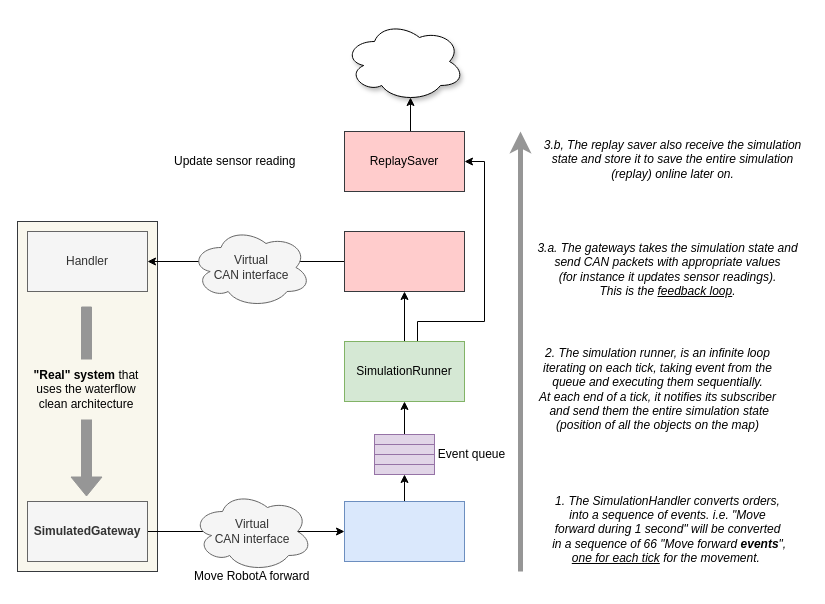
Some shapes in this 825 by 604 pixel diagram are drawn without their labels. Here are the shapes that lost their labels. From the top down, the centre of each, then its label:
the point at 405,62: Internet
the point at 404,261: SimulationGateway
the point at 404,531: SimulationHandler
